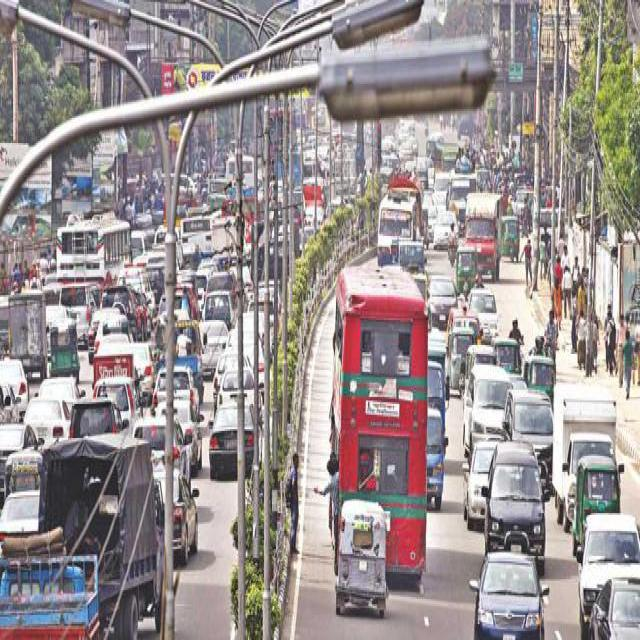bike: (446, 235, 456, 264)
vehicle: (333, 268, 427, 570), (40, 436, 165, 633), (1, 548, 99, 634), (552, 381, 616, 492), (484, 438, 546, 549), (475, 547, 545, 635), (337, 497, 388, 612), (579, 510, 640, 591), (57, 217, 132, 276), (573, 452, 620, 546), (210, 402, 263, 479), (159, 471, 198, 564), (464, 363, 510, 440), (466, 192, 502, 280), (8, 290, 47, 370), (134, 416, 193, 468), (589, 576, 640, 635), (505, 387, 551, 450), (379, 190, 416, 268), (166, 398, 203, 460), (60, 279, 101, 331), (181, 205, 222, 257), (93, 374, 140, 418), (464, 440, 488, 526), (160, 316, 201, 365), (5, 448, 42, 500), (24, 393, 70, 434), (70, 395, 122, 431), (217, 365, 262, 406), (154, 364, 200, 403), (1, 488, 39, 535), (428, 402, 445, 504), (213, 350, 251, 393), (49, 319, 79, 373), (201, 318, 230, 368), (1, 419, 34, 462), (429, 275, 457, 324), (95, 342, 134, 376), (448, 171, 478, 215), (227, 153, 256, 198), (449, 327, 467, 395), (1, 355, 27, 401), (470, 290, 499, 331), (429, 342, 447, 407), (135, 341, 156, 394), (525, 355, 555, 391), (102, 282, 135, 314), (457, 242, 476, 294), (397, 236, 427, 268), (435, 208, 460, 246), (499, 215, 521, 258), (495, 335, 521, 369), (40, 375, 81, 393), (435, 141, 458, 170), (468, 342, 496, 364), (103, 313, 129, 333), (423, 202, 437, 238), (177, 267, 197, 289), (410, 136, 419, 154)
